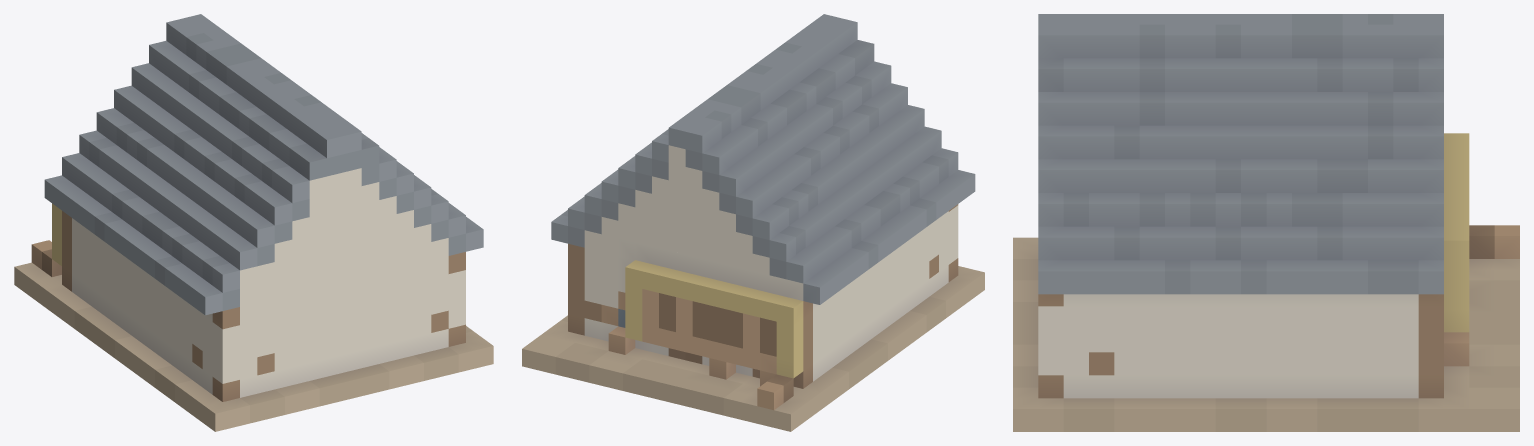
The model's file is tailor.lite.glb.
The picture shows the model from 3 angles, left to right: view 1: azimuth 30°, elevation 25°; view 2: azimuth 150°, elevation 25°; view 3: azimuth 270°, elevation 25°; orthographic projection. The views are drawn at different scales.
Parts seen in each view (by area): view 1: tailor; view 2: tailor; view 3: tailor.
Boxes of the visible parts, x1,y1,x2,y2 form: tailor: (14, 14, 493, 431); tailor: (522, 14, 984, 431); tailor: (1013, 14, 1519, 431).
Size of the model in its own units: 4 by 3.5 by 5.
